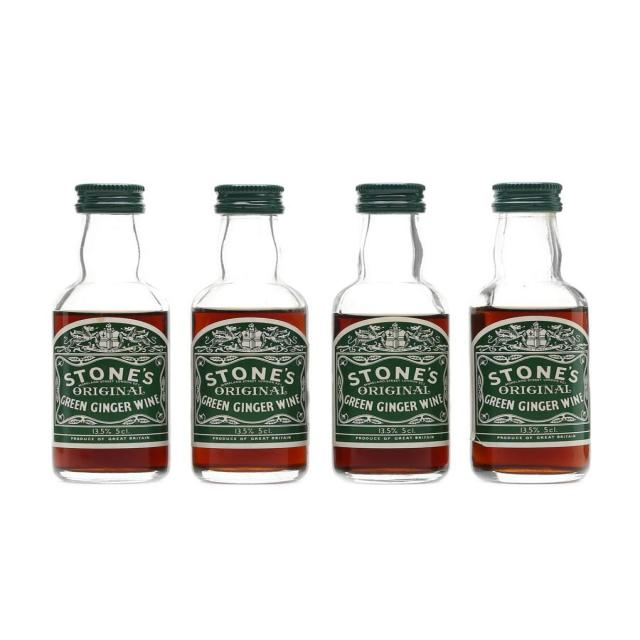non-organic waste: (43, 173, 177, 488)
